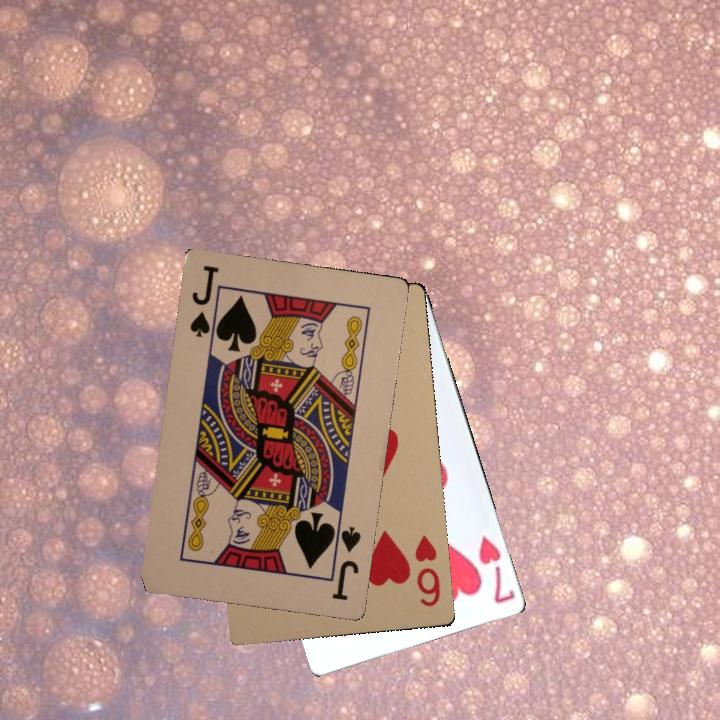6h: (410, 533, 443, 609)
7h: (474, 530, 518, 606)
Js: (324, 523, 364, 603), (186, 261, 224, 345)
